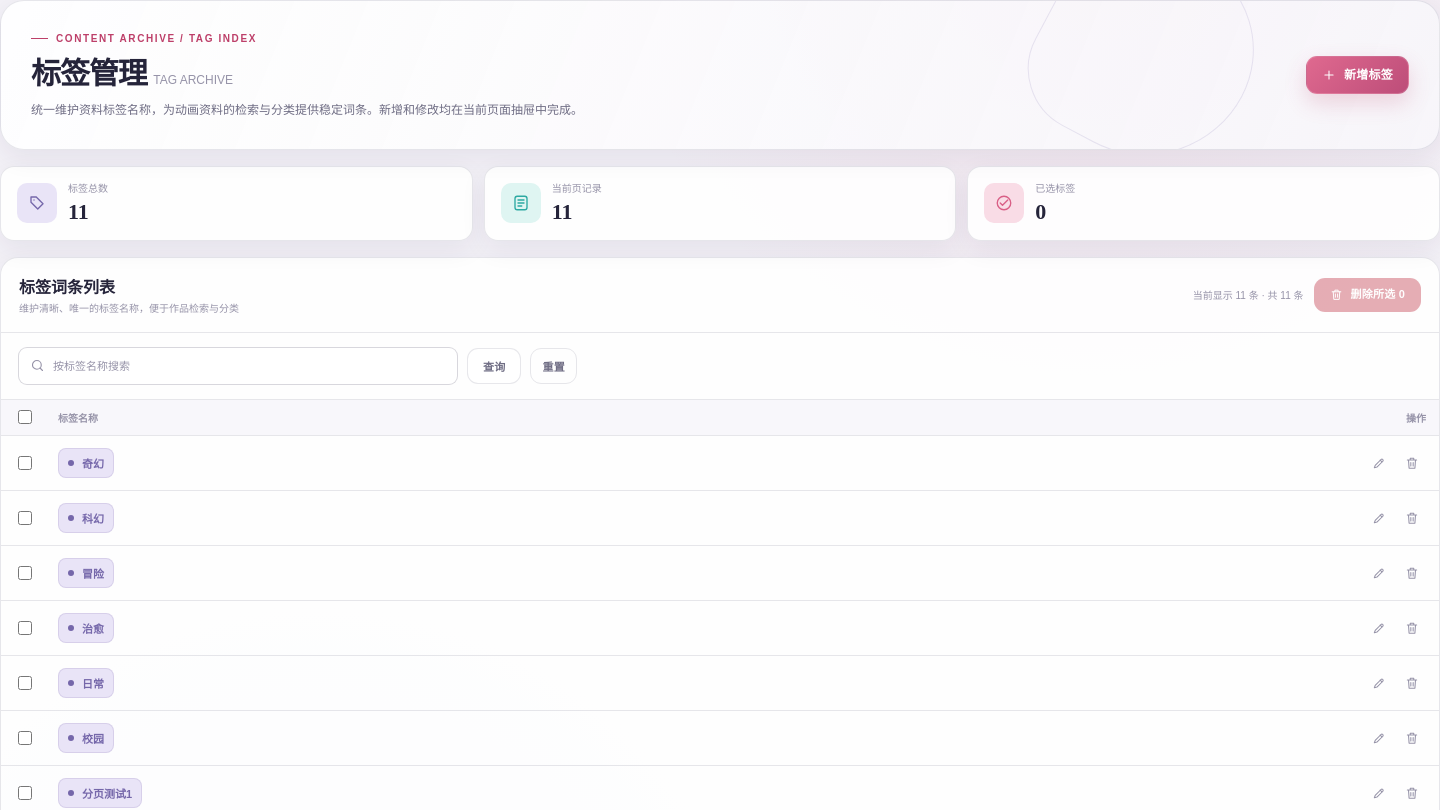
Test: 标签管理页面 › 支持勾选多条标签后批量删除
Click the checkbox named "选择标签 奇幻" at point(25, 462), box x1=18 y1=456 x2=32 y2=470
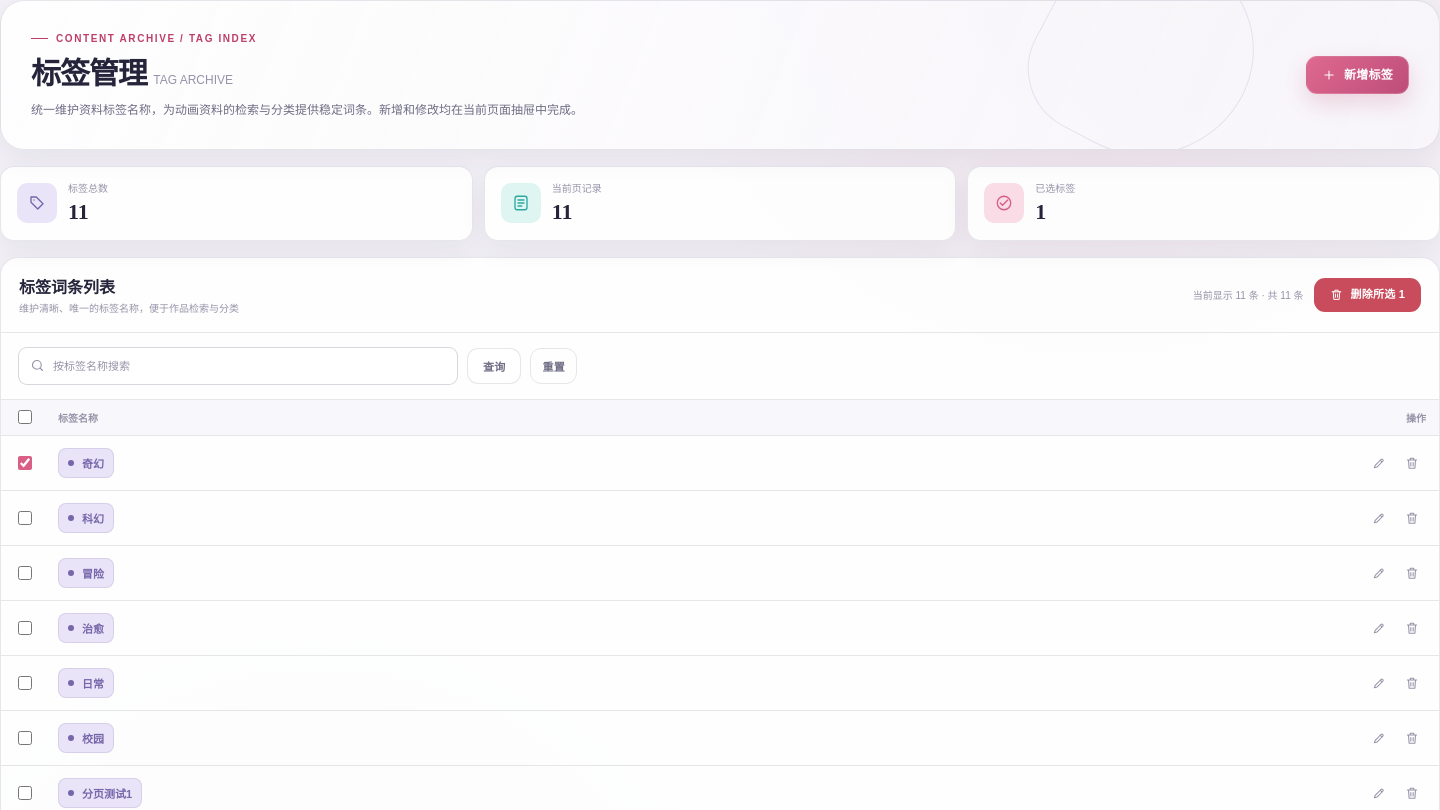
Click the checkbox named "选择标签 科幻" at point(25, 518), box x1=18 y1=510 x2=32 y2=524
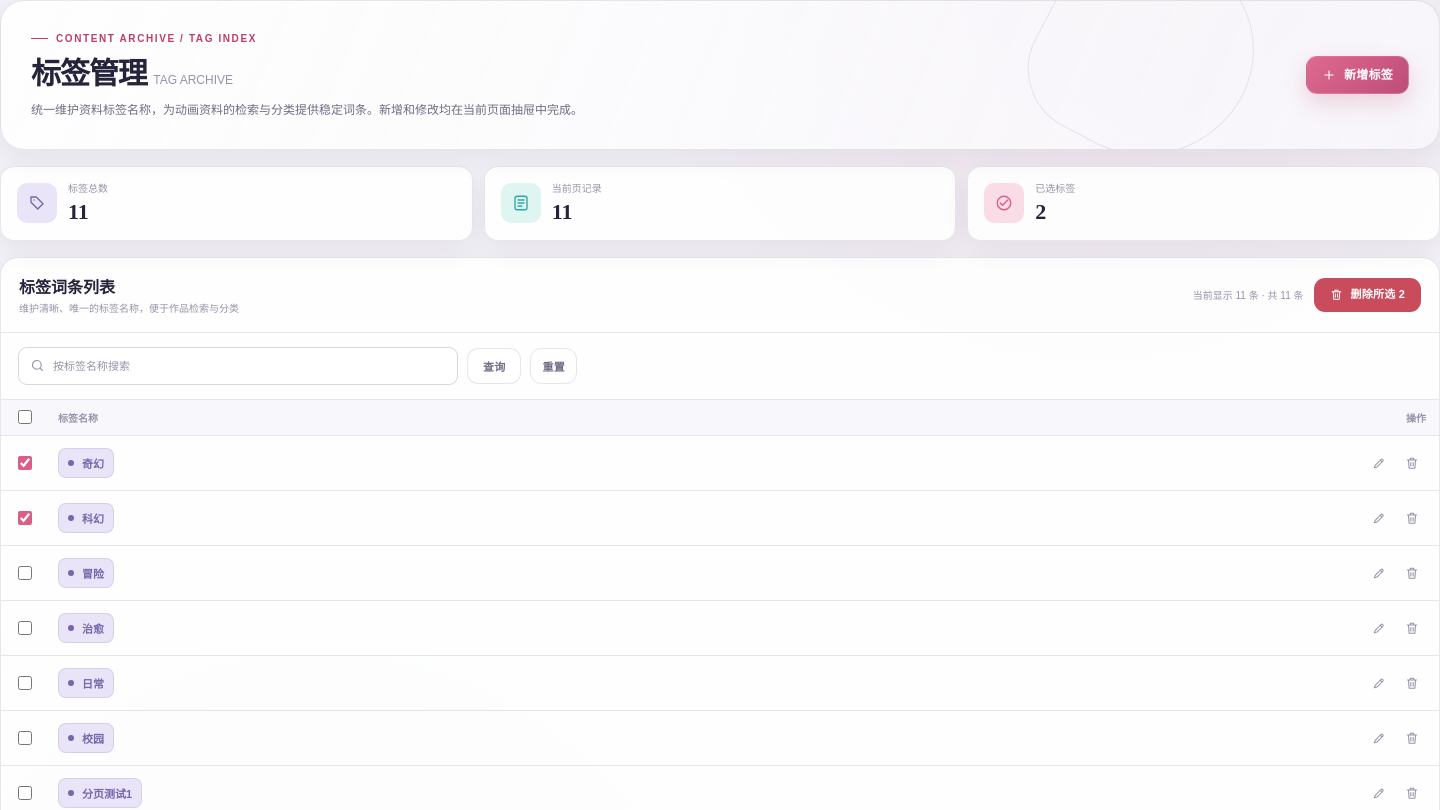
Click the button with class "danger-button" at point(1367, 294), box x1=1314 y1=278 x2=1421 y2=312
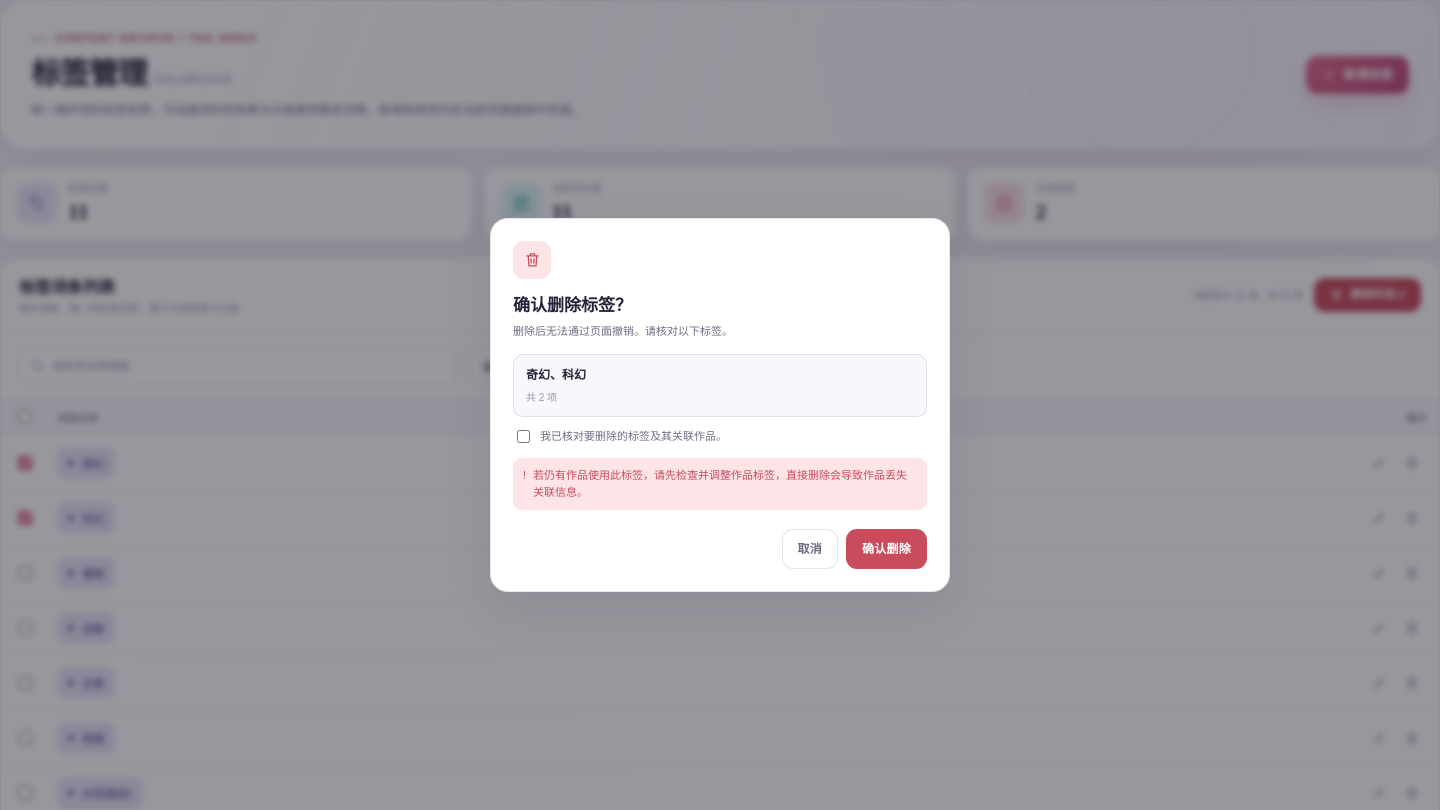
Check: the element with class "tags-delete-preview" shows "奇幻、科幻", box x1=526 y1=368 x2=586 y2=382
Click the checkbox labelled "我已核对要删除的标签及其关联作品。" at point(524, 436), box x1=517 y1=430 x2=530 y2=443
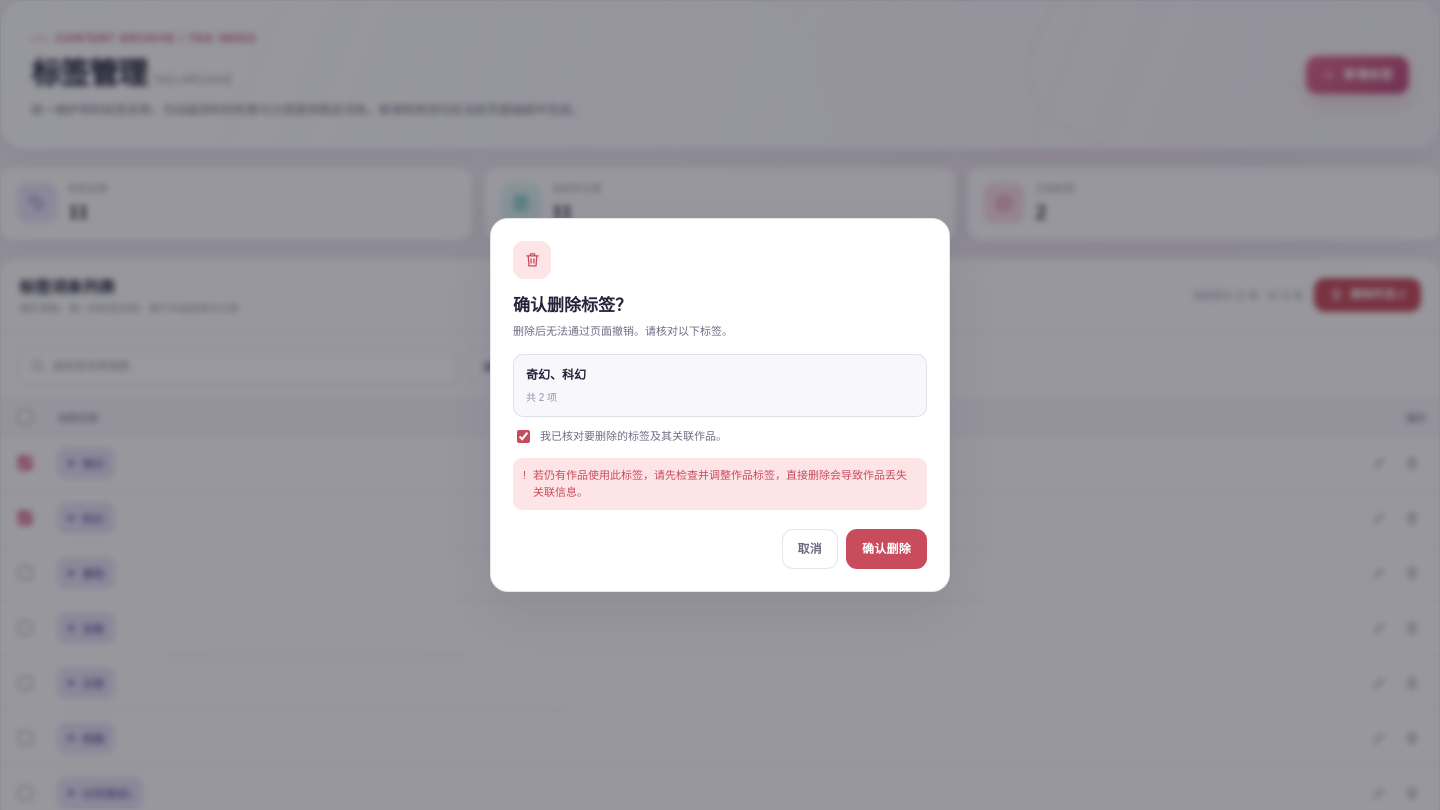
Click the button with class "danger-button" showing "确认删除" at point(886, 549), box x1=846 y1=529 x2=927 y2=569
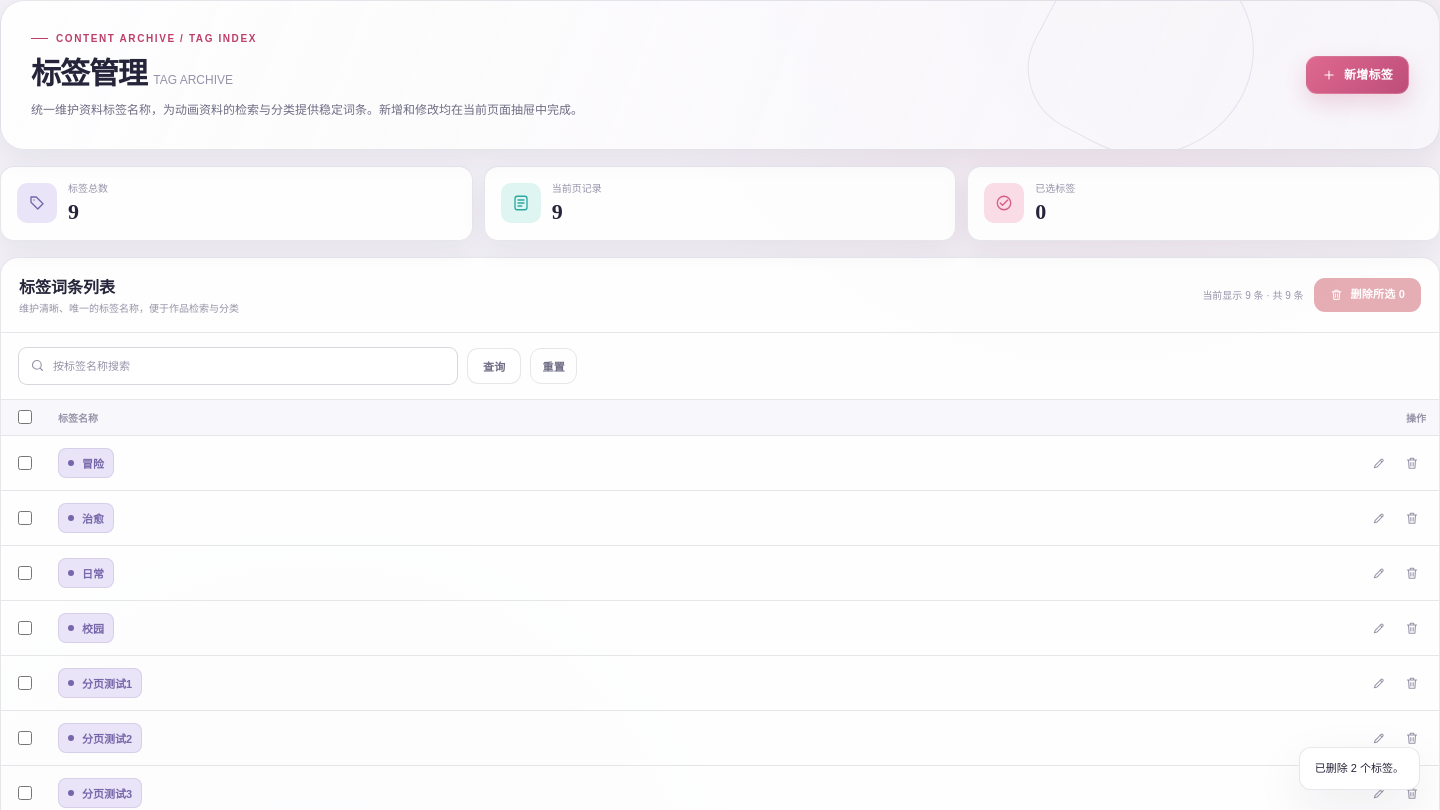
Check: the text "奇幻" is gone
Check: the text "科幻" is gone
